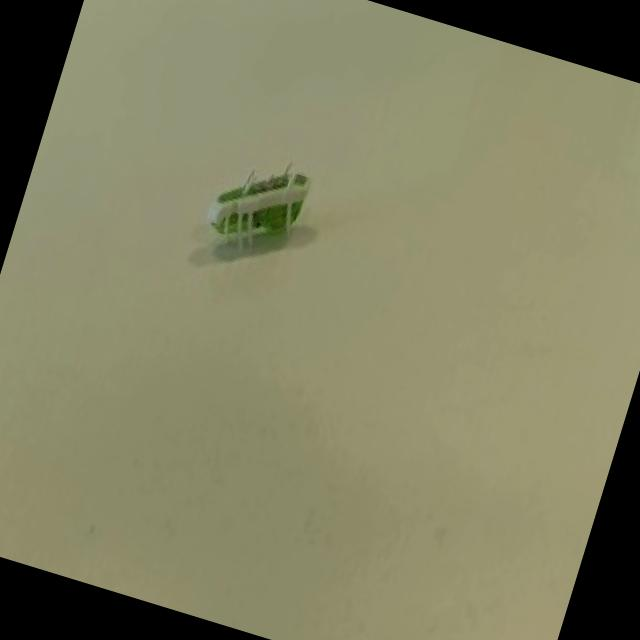4_NanoBug_Blanco: (182, 97, 363, 289)
